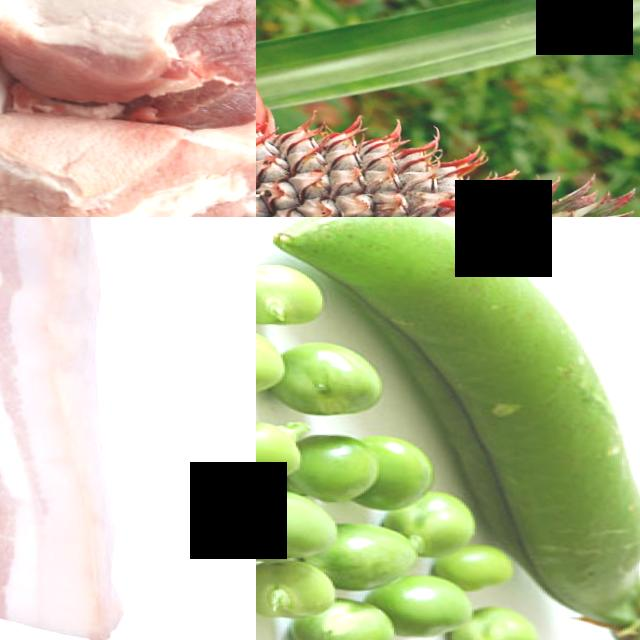peas: (256, 481, 515, 640), (256, 317, 434, 511)
pineapple: (256, 109, 572, 217)
pork belly: (0, 217, 143, 638), (0, 93, 256, 217), (0, 0, 256, 118)
